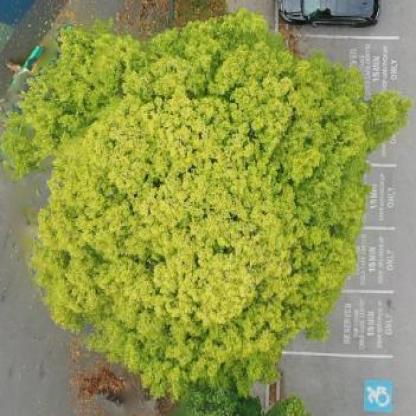Deciduous Tree: (12, 30, 382, 397)
